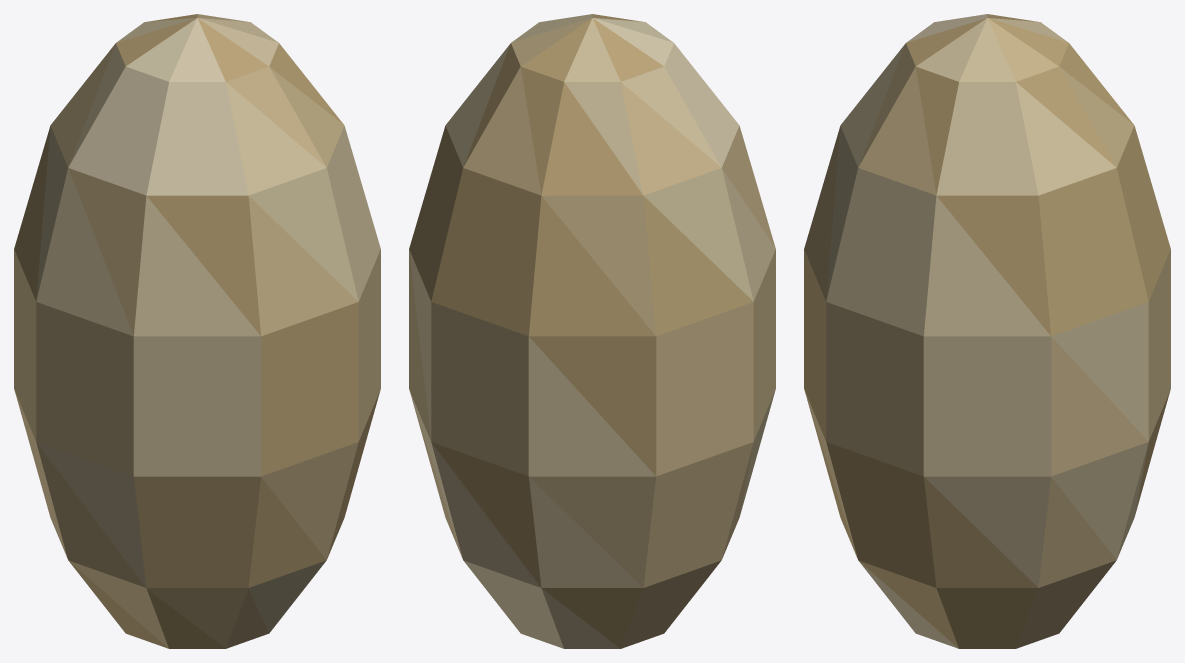
The model's file is nest-cocoon.glb.
3 renders of one model, left to right at view 1: azimuth 30°, elevation 25°; view 2: azimuth 150°, elevation 25°; view 3: azimuth 270°, elevation 25°, orthographic.
Bounding box in the file's own units: 1.04 × 2 × 1.06.
